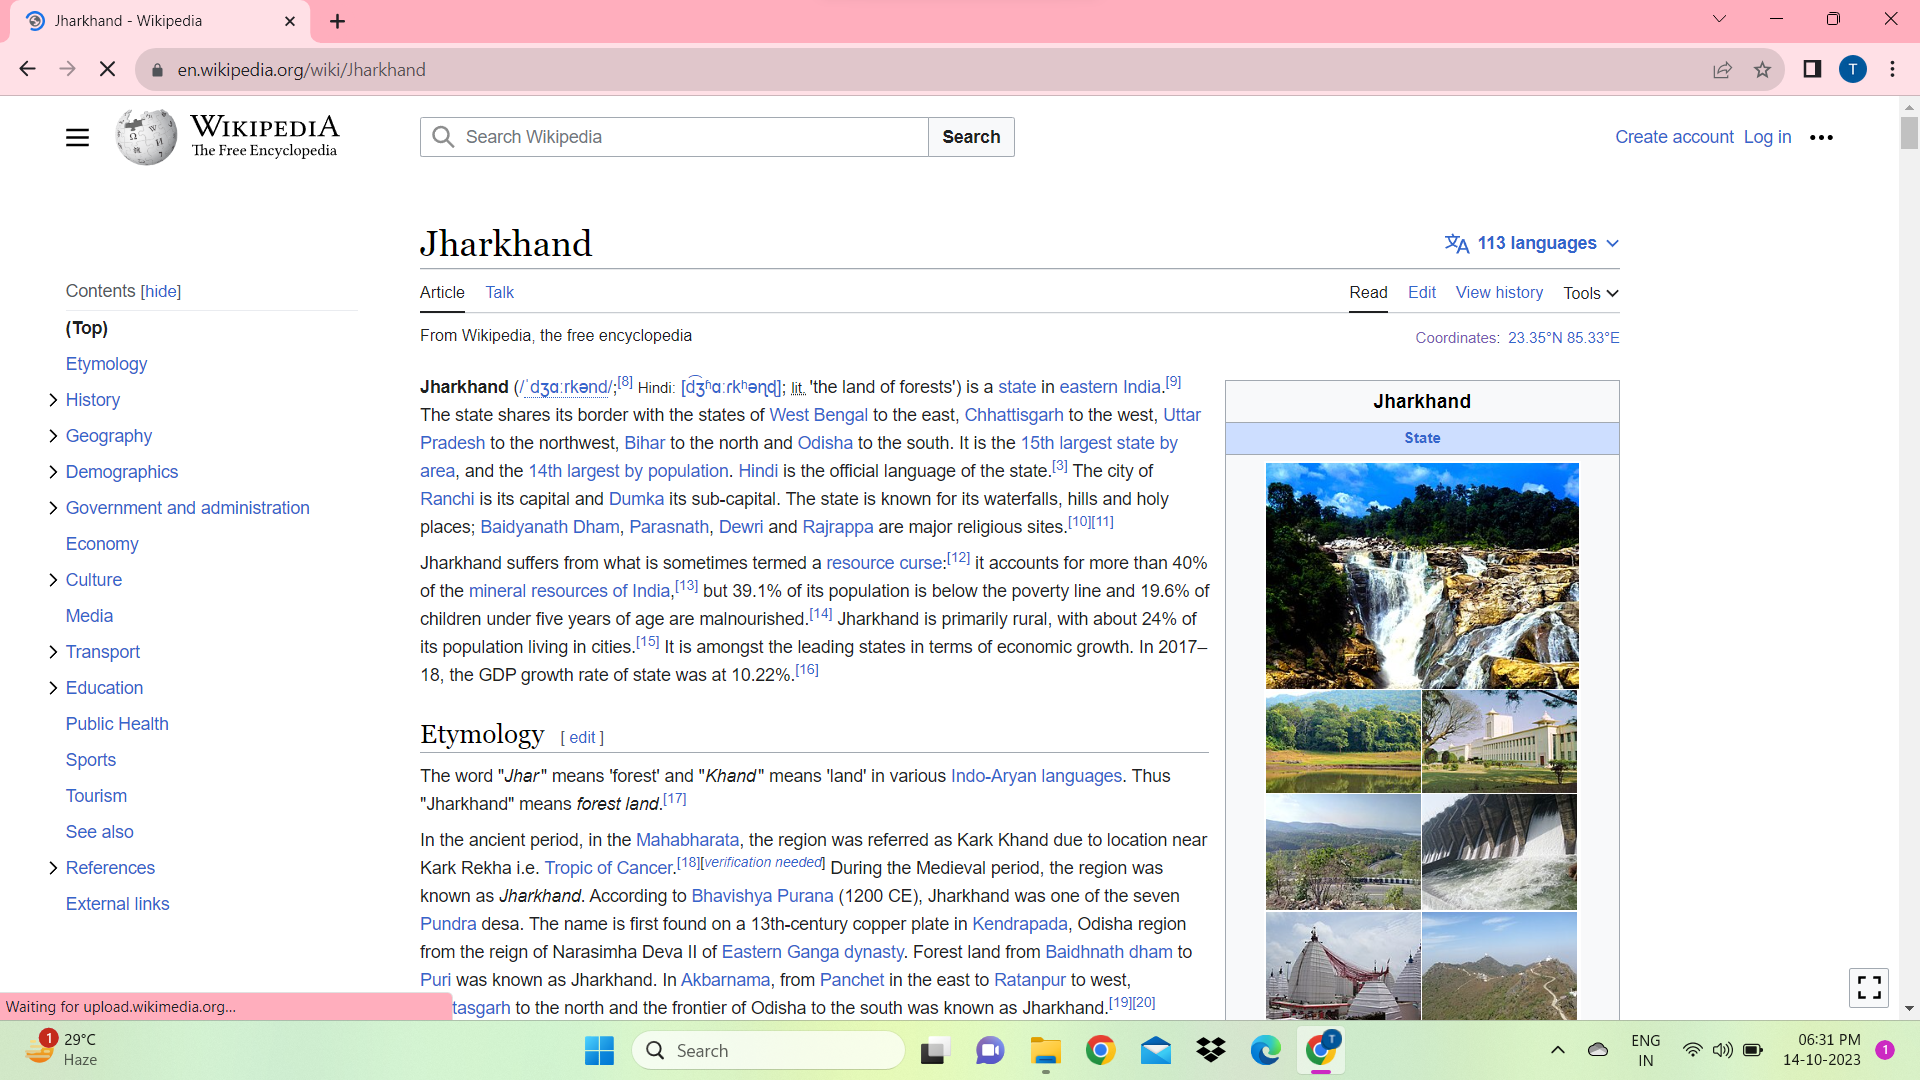Image: (1255, 455, 1588, 1027)
Paragraph: (417, 824, 1171, 1022), (406, 376, 1200, 533), (406, 549, 1205, 688), (421, 756, 1187, 815), (62, 489, 319, 556), (407, 315, 699, 359), (406, 214, 613, 274), (404, 715, 549, 756), (1354, 384, 1489, 425), (57, 274, 200, 313), (58, 572, 153, 628), (1422, 330, 1633, 349), (62, 418, 177, 454), (58, 455, 183, 485), (1448, 272, 1551, 306), (65, 855, 181, 885), (50, 893, 187, 915), (58, 675, 149, 703), (62, 716, 181, 737), (54, 352, 156, 376), (61, 644, 157, 667), (410, 281, 479, 306), (1342, 272, 1391, 306), (1560, 269, 1604, 306), (65, 386, 128, 410), (58, 822, 133, 841), (58, 316, 119, 340), (481, 278, 525, 306), (1407, 276, 1445, 306), (67, 785, 136, 796), (62, 756, 128, 764)
